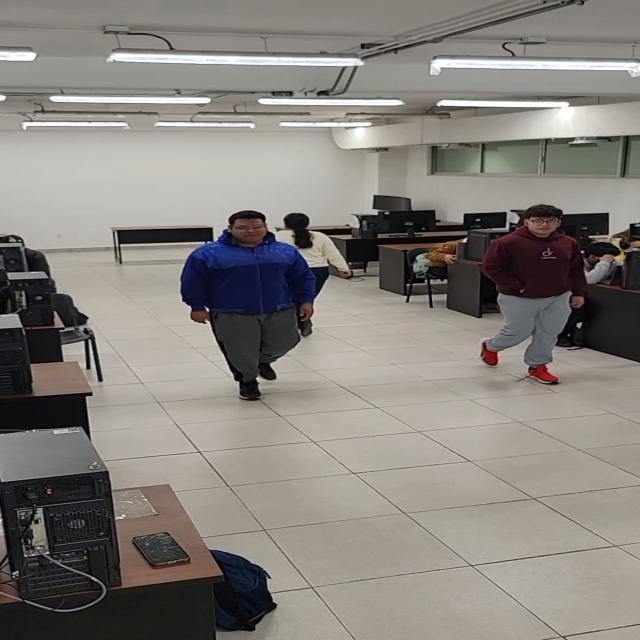Persona: (180, 210, 318, 401), (480, 203, 590, 386), (272, 211, 353, 337)
